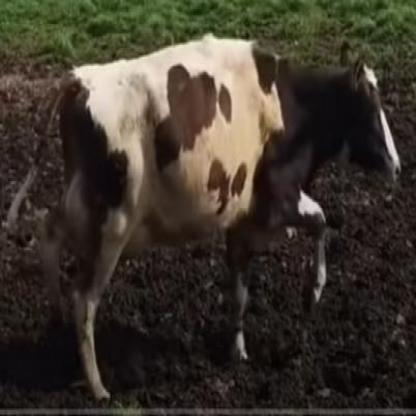cow: (60, 34, 400, 402)
